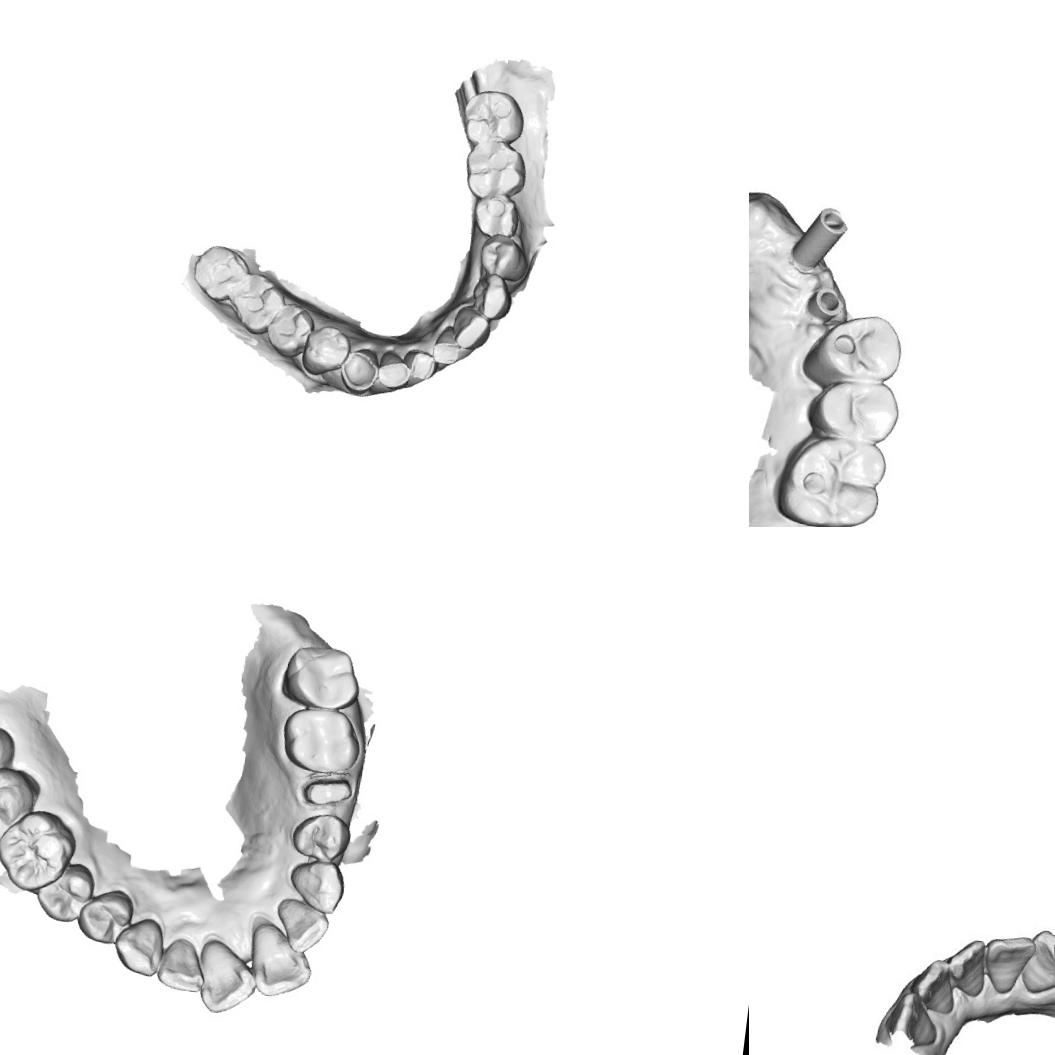canine: (284, 856, 349, 917), (109, 914, 166, 980), (336, 344, 387, 398), (467, 271, 514, 324), (1023, 930, 1055, 992)
crown: (300, 773, 356, 810)
implant: (788, 208, 850, 278), (804, 278, 845, 320)
incisor: (243, 919, 319, 1003), (192, 936, 262, 1019), (271, 894, 333, 958), (887, 988, 943, 1051), (154, 934, 210, 996), (984, 933, 1036, 997), (948, 939, 996, 999), (916, 960, 965, 1016), (450, 304, 494, 352), (400, 345, 439, 393), (373, 348, 413, 392), (430, 324, 468, 370)
molar: (772, 431, 894, 527), (0, 802, 80, 897), (277, 703, 365, 778), (276, 640, 364, 714), (224, 268, 290, 339), (460, 140, 530, 206), (458, 86, 529, 150), (184, 241, 251, 307), (0, 761, 39, 849), (0, 719, 19, 798)
premolar: (813, 310, 910, 384), (806, 377, 900, 445), (34, 858, 100, 928), (74, 884, 137, 949), (288, 808, 355, 866), (262, 299, 315, 362), (298, 321, 352, 380), (476, 230, 532, 284), (470, 190, 524, 242)
